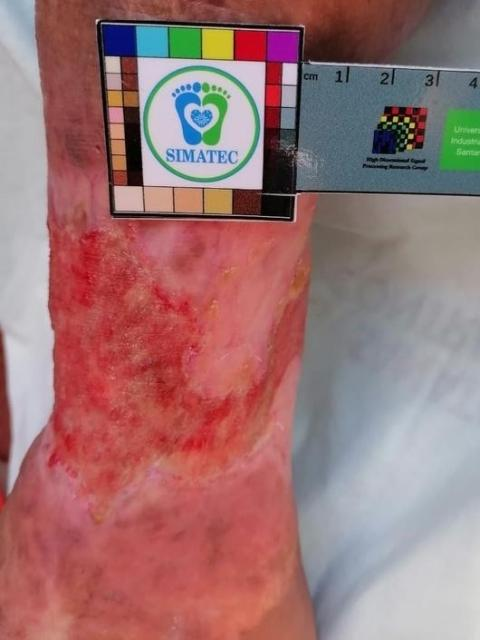wound: (47, 182, 310, 525)
